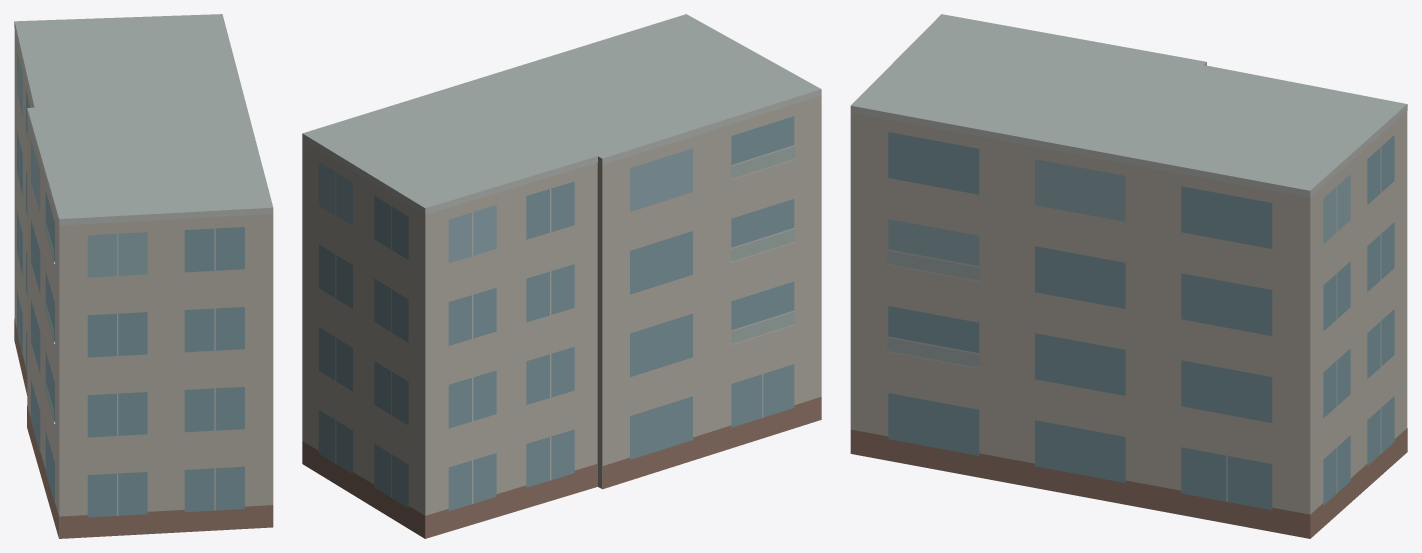
The model's file is survey-upis-32524954.glb.
3 renders of one model, left to right at view 1: azimuth 30°, elevation 25°; view 2: azimuth 150°, elevation 25°; view 3: azimuth 270°, elevation 25°, orthographic. The views are drawn at different scales.
Visible parts, largest first — view 1: survey-upis-32524954.tmp; view 2: survey-upis-32524954.tmp; view 3: survey-upis-32524954.tmp.
Boxes of the visible parts, left/top/right/bottom form: survey-upis-32524954.tmp: left=14, top=14, right=273, bottom=538; survey-upis-32524954.tmp: left=302, top=14, right=821, bottom=538; survey-upis-32524954.tmp: left=850, top=14, right=1407, bottom=538.
Size of the model in its own units: 13.51 by 12.4 by 17.98.
